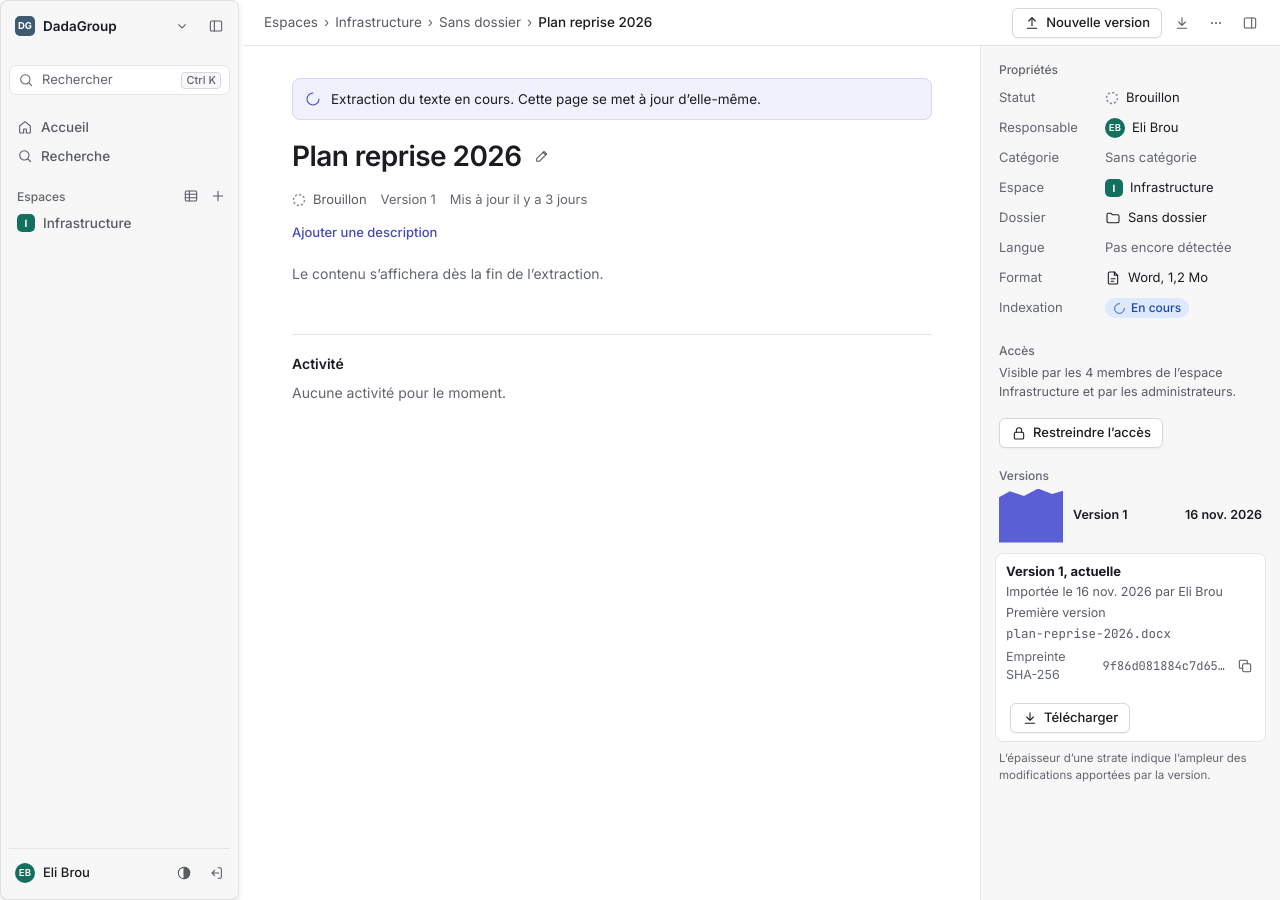
Test: page of a document › deletes the document once confirmed, and goes back to its folder
What coordinates should you click on to do the following:
click the button named "Autres actions"
I would click on:
 (1216, 22)
Its box is [1202,8,1230,36].
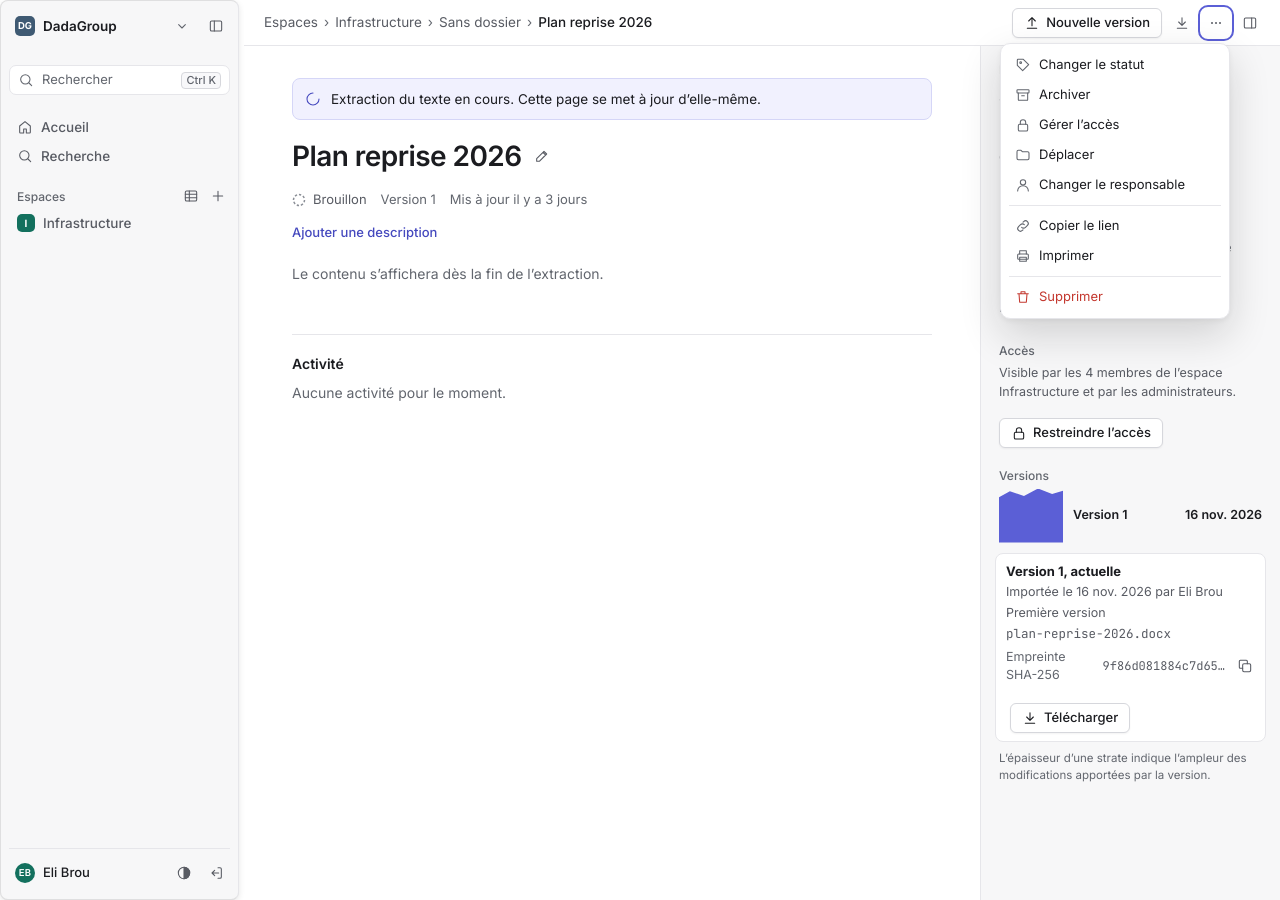
What coordinates should you click on to do the following:
click the menu item "Supprimer"
I would click on:
 (1115, 296)
Its box is [1007,282,1223,312].
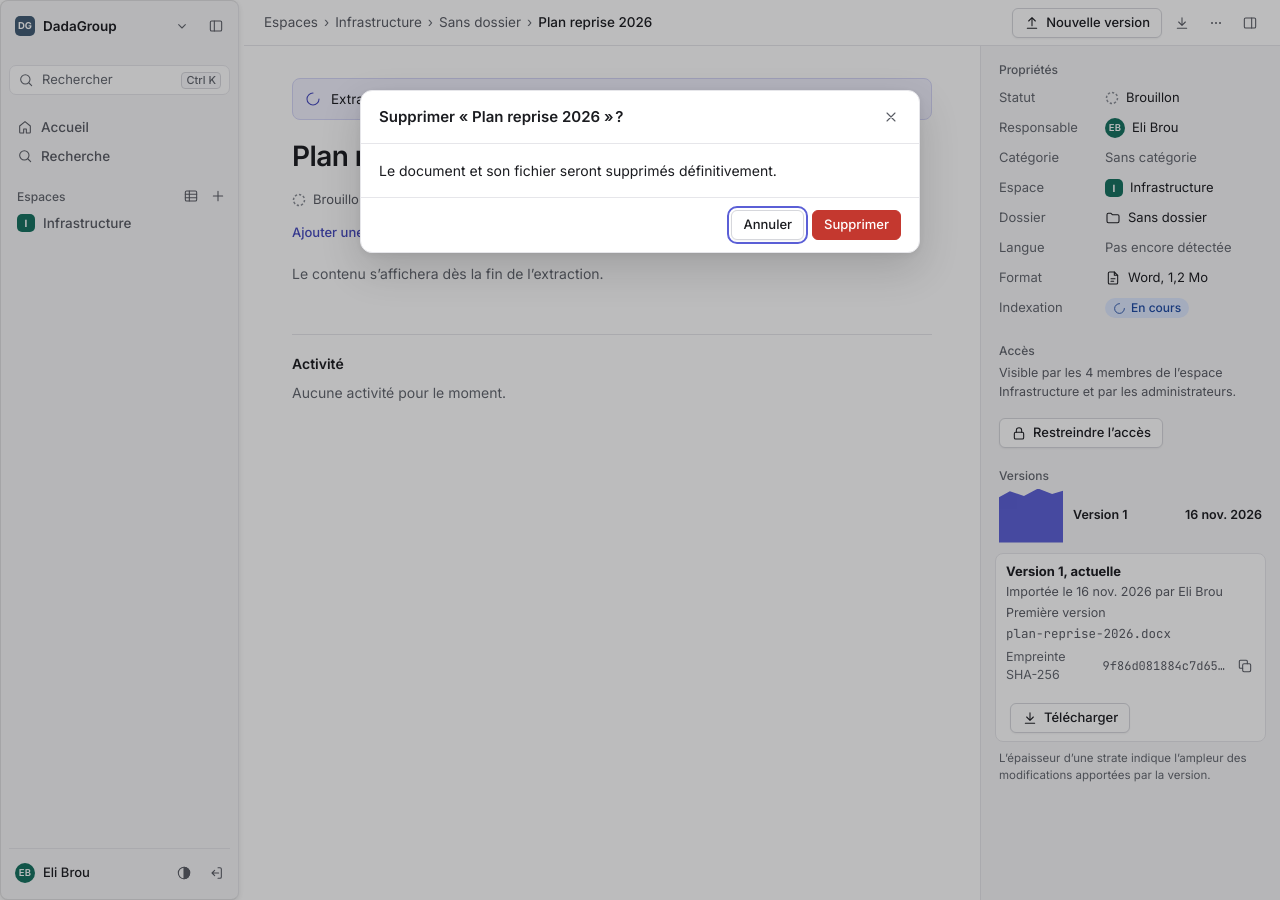
expect the dialog shows "Le document et son fichier seront supprimés définitivement.": met, box [379,162,777,179]
What coordinates should you click on to do the following:
click the button "Supprimer"
I would click on:
 (857, 225)
Its box is [812,210,901,240].
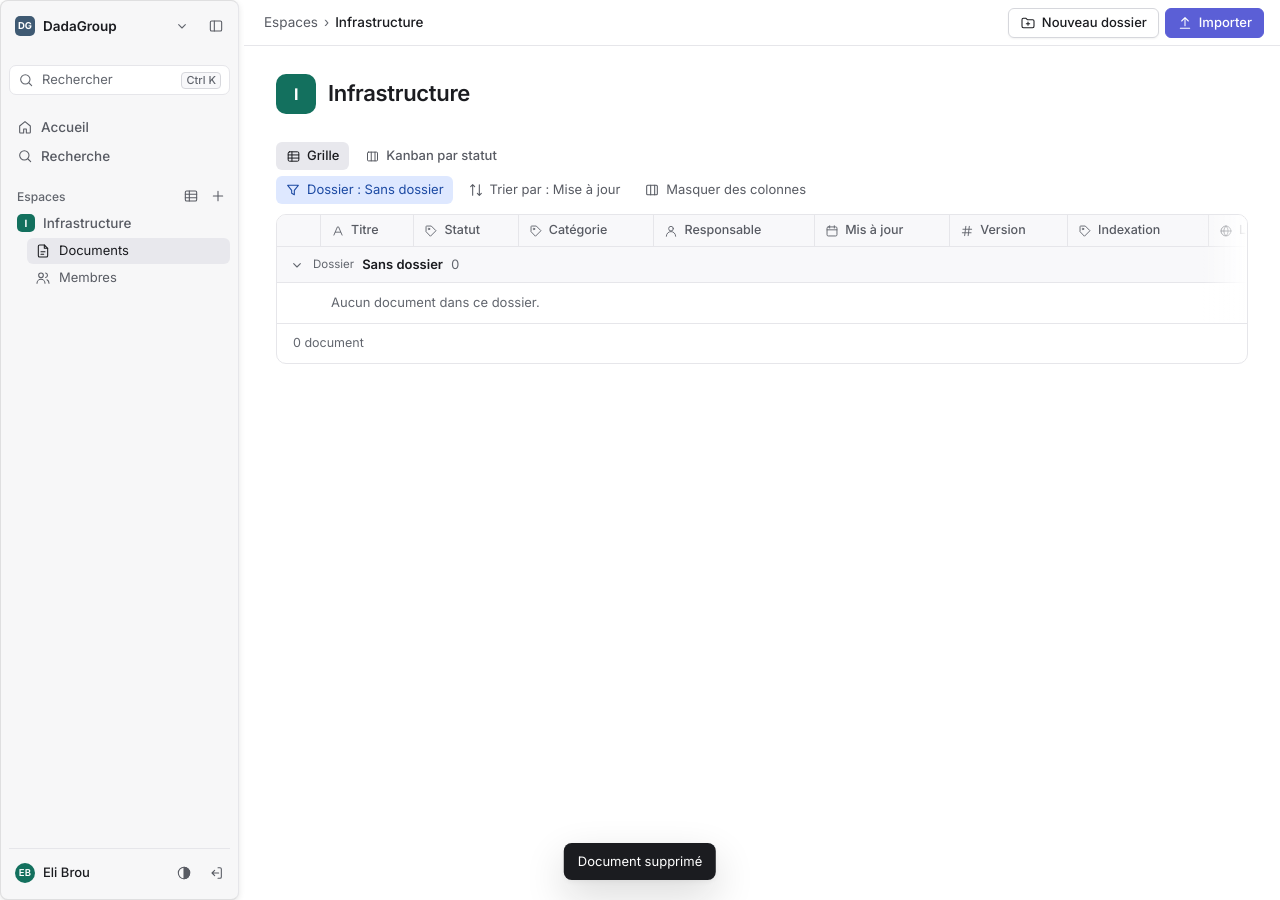
expect the text "Document supprimé" is shown: met, box [564,842,716,880]
